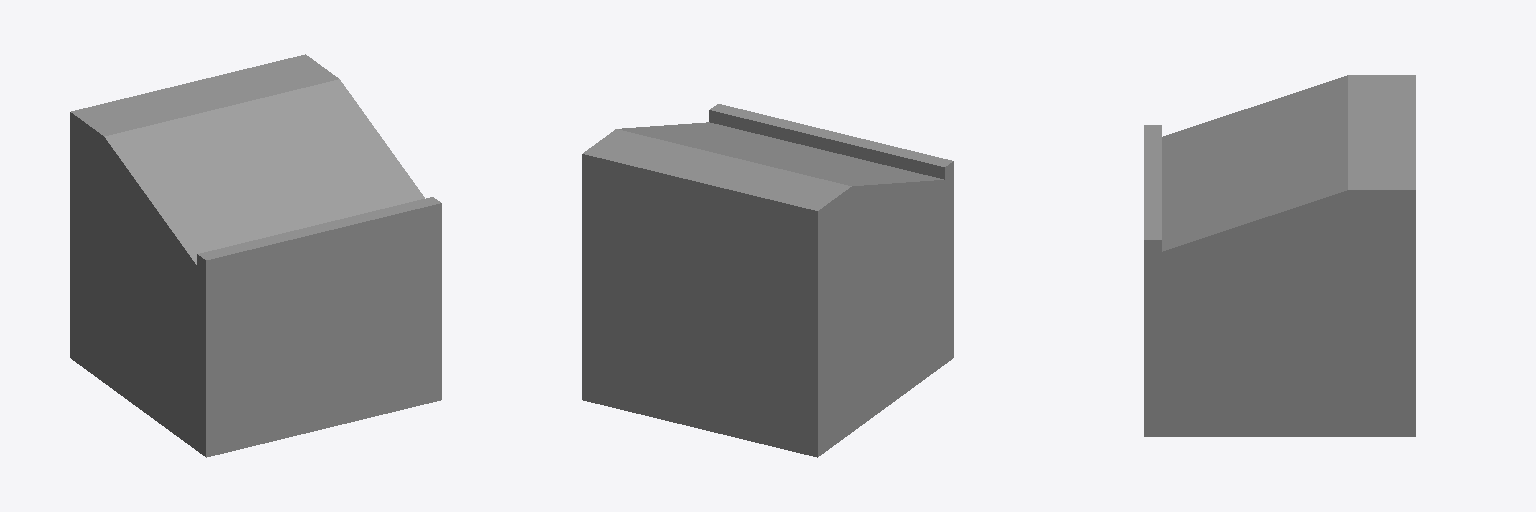
File: WritingTable.obj
The picture shows the model from 3 angles: view 1: azimuth 30°, elevation 25°; view 2: azimuth 150°, elevation 25°; view 3: azimuth 270°, elevation 25°; orthographic projection.
Parts seen in each view (by area): view 1: Cube; view 2: Cube; view 3: Cube.
Boxes of the visible parts, x1=… form: Cube: x1=70, y1=54, x2=441, y2=457; Cube: x1=582, y1=104, x2=953, y2=457; Cube: x1=1144, y1=75, x2=1415, y2=436.
Size of the model in its own units: 1 by 1 by 1.